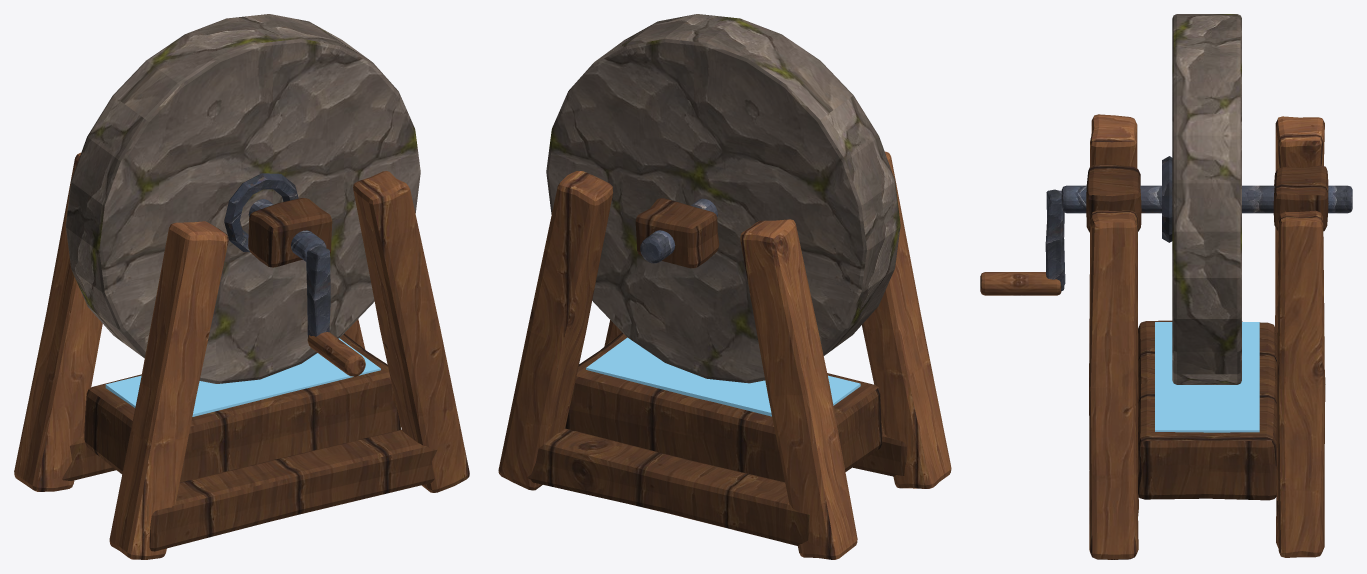
The model's file is grindstone.glb.
The picture shows the model from 3 angles, left to right: view 1: azimuth 30°, elevation 25°; view 2: azimuth 150°, elevation 25°; view 3: azimuth 270°, elevation 25°; orthographic projection.
Parts seen in each view (by area): view 1: model; view 2: model; view 3: model.
Boxes of the visible parts, box(x1,y1,x2,y2) form: model: box(14, 14, 469, 559); model: box(498, 14, 951, 559); model: box(980, 14, 1352, 559).
Size of the model in its own units: 0.6816 by 0.8616 by 0.64.
8 materials, 7 textured.
